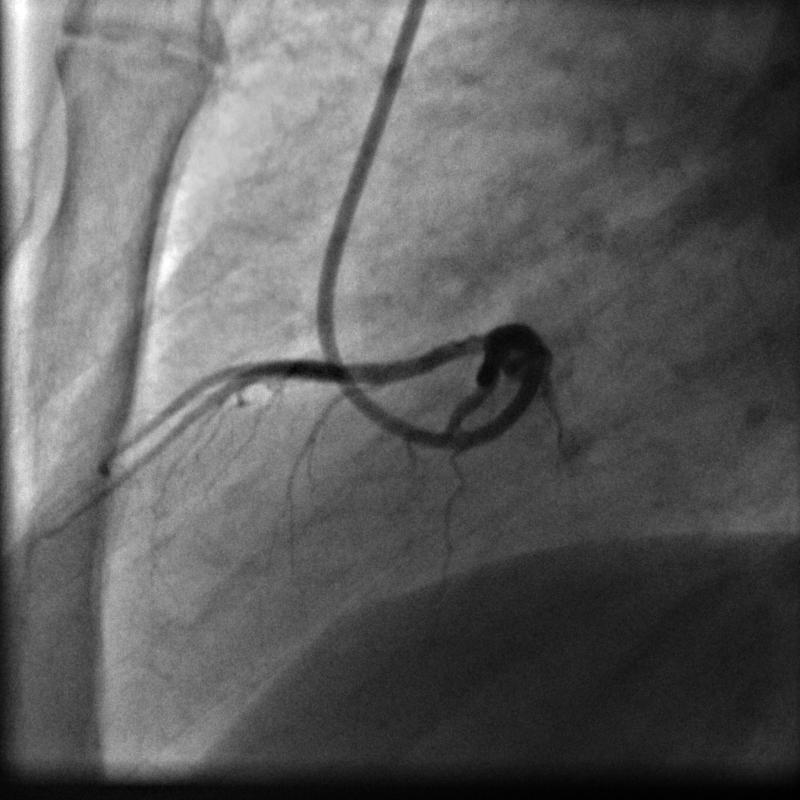Stenosis: (329, 359, 365, 386)
